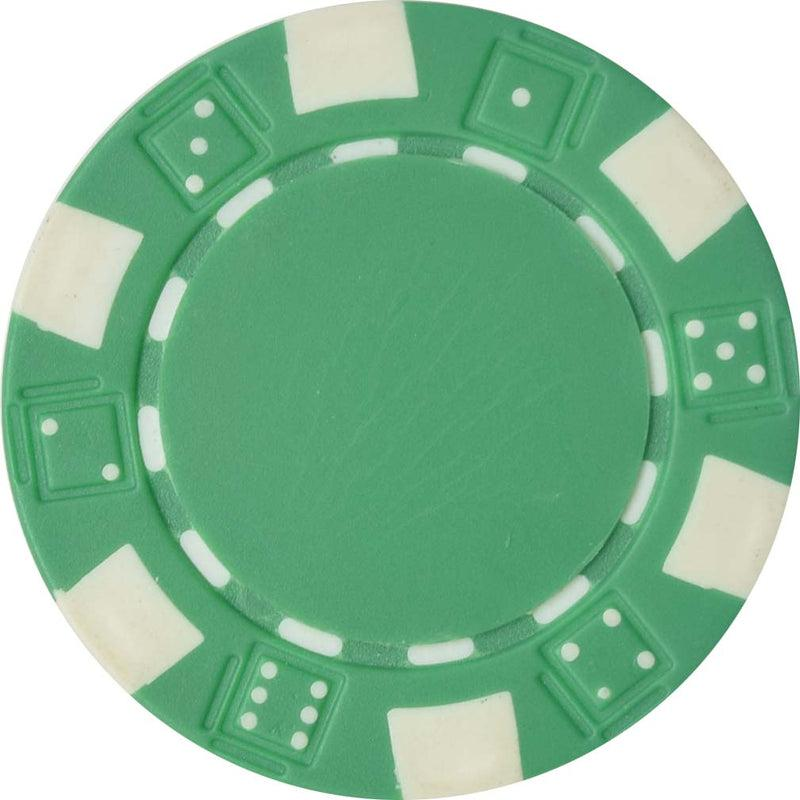chip-green: (2, 2, 800, 800)
